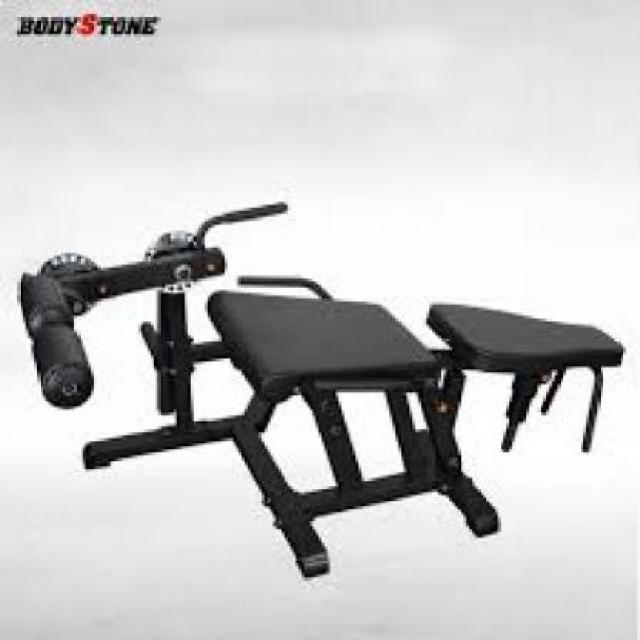reg curl machine: (17, 192, 628, 578)
